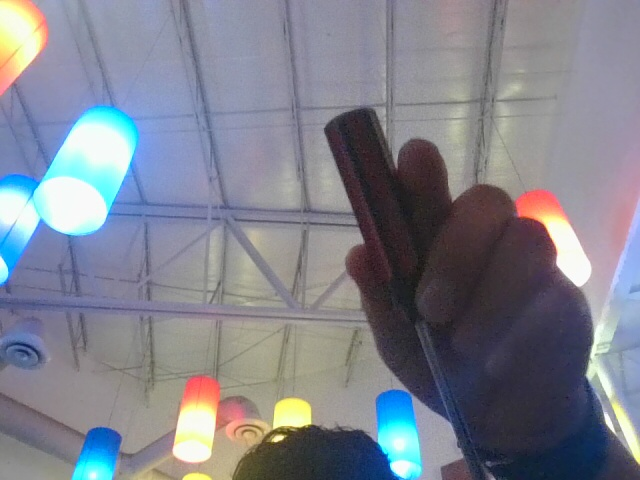destornillador: (314, 103, 490, 479)
